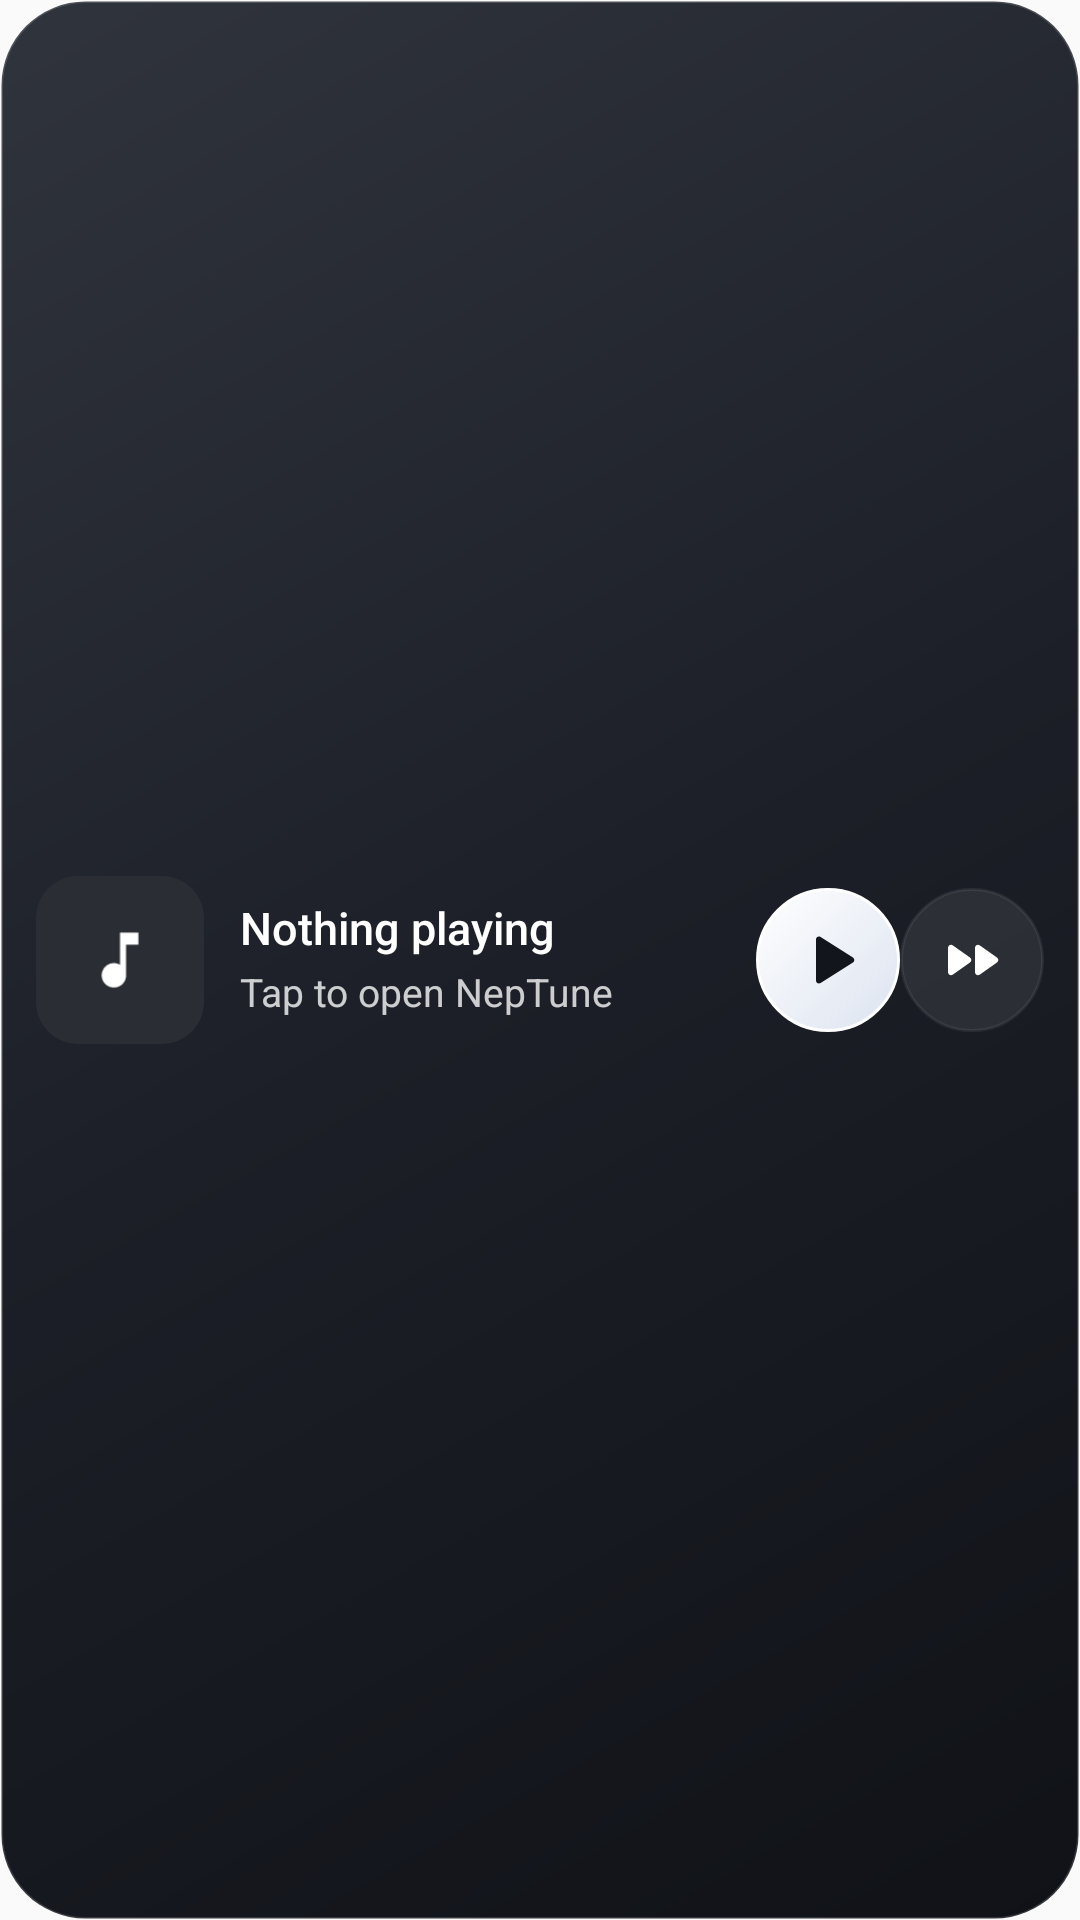

Point at icon controls on the screen. Image size 1080*1920, points as (x,y).
Next: (972,960)
